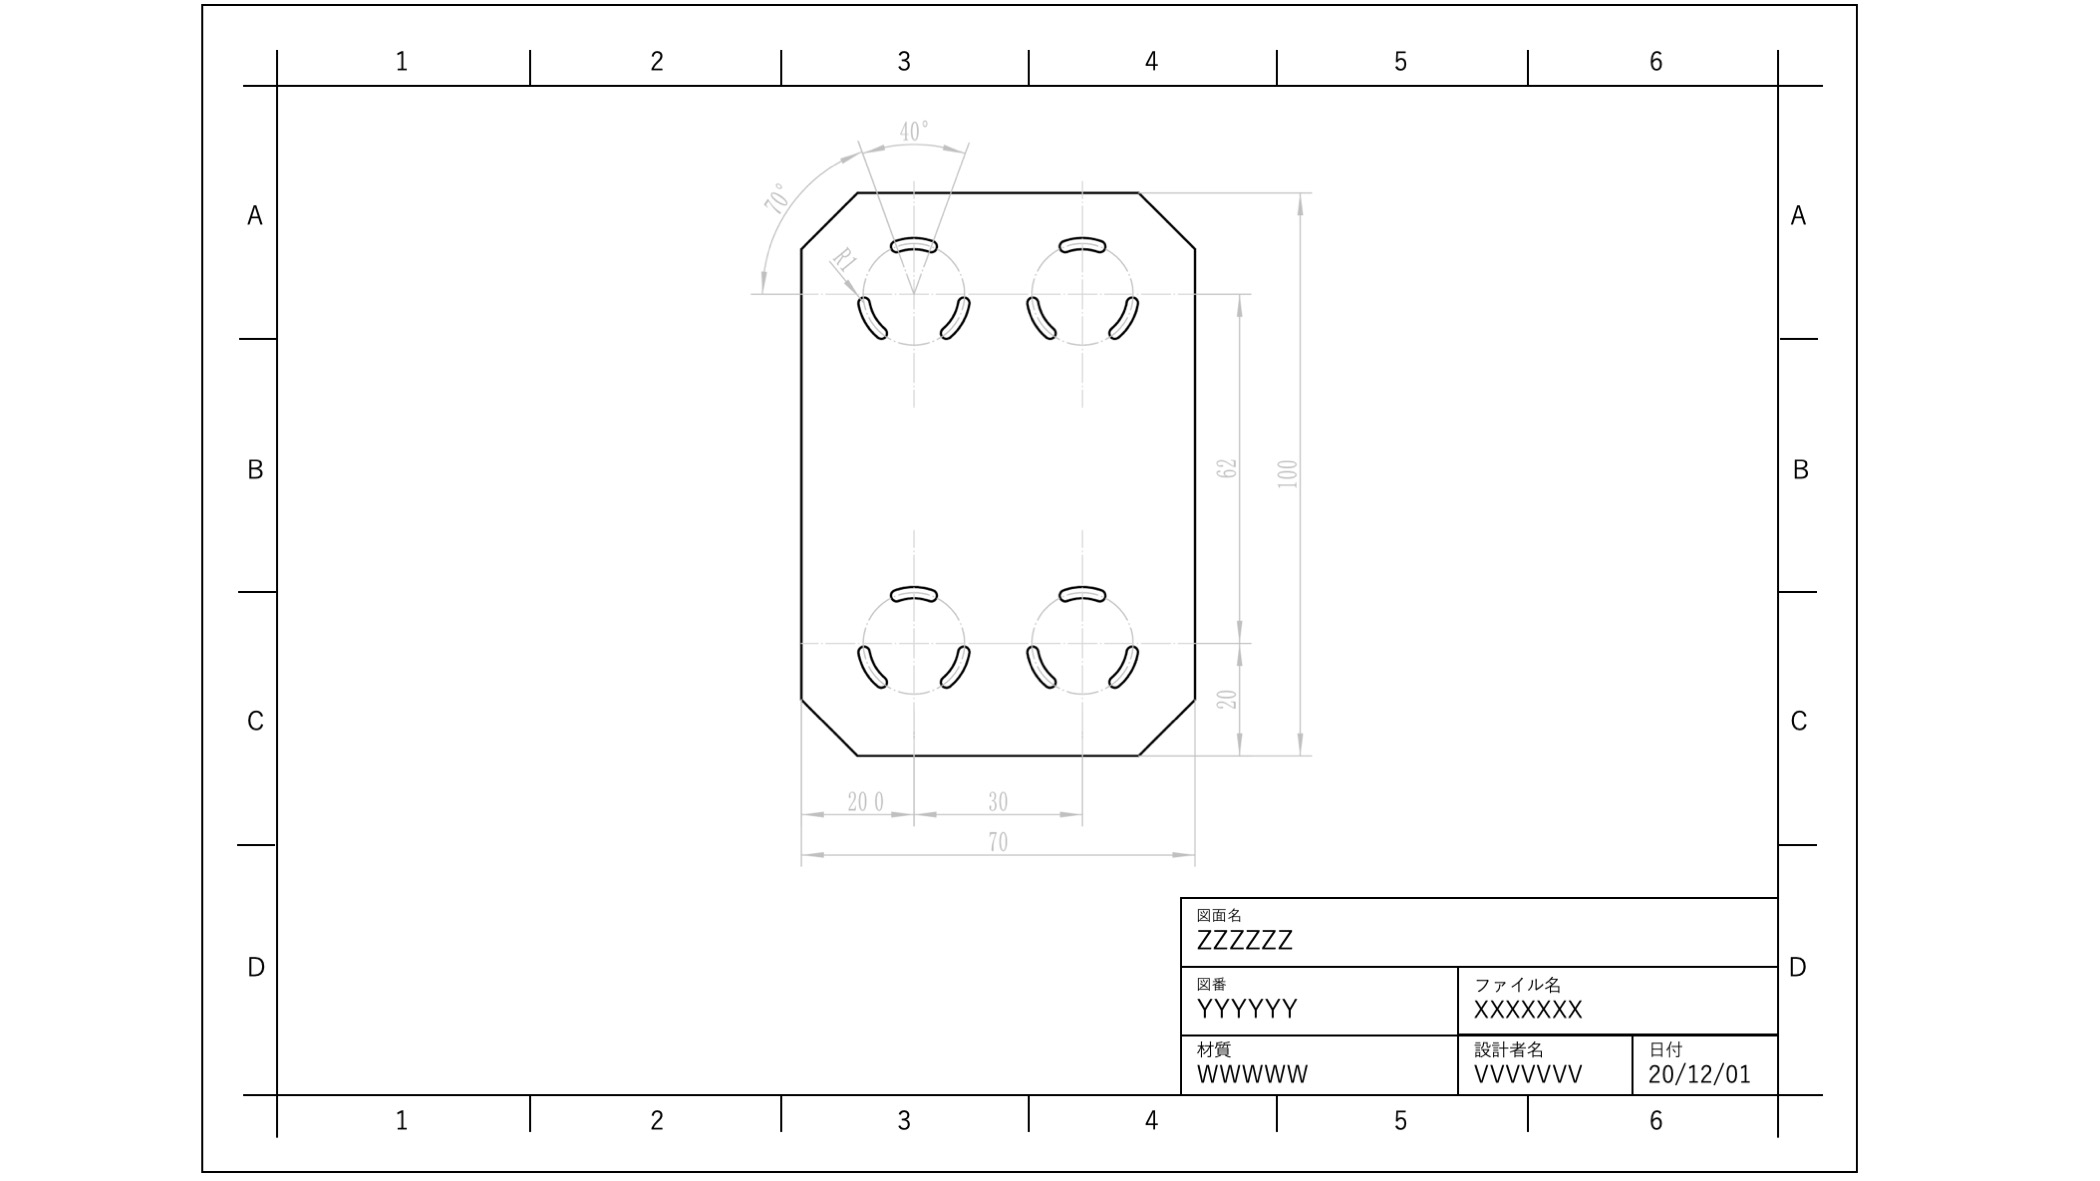round_rectangle: (1010, 645, 1062, 694), (1015, 286, 1062, 339), (936, 288, 979, 345), (936, 637, 979, 692), (1105, 640, 1147, 695), (847, 643, 891, 692), (1049, 570, 1108, 606), (1103, 287, 1142, 340), (847, 291, 888, 340), (877, 585, 955, 611), (888, 225, 939, 257), (1054, 228, 1111, 254)
